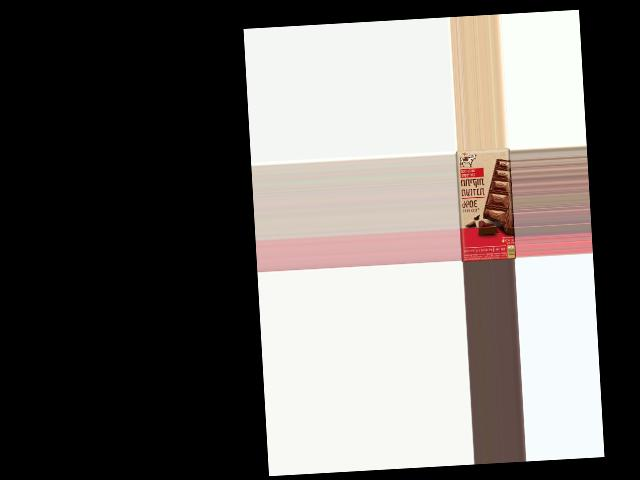chocolate: (454, 147, 515, 261)
